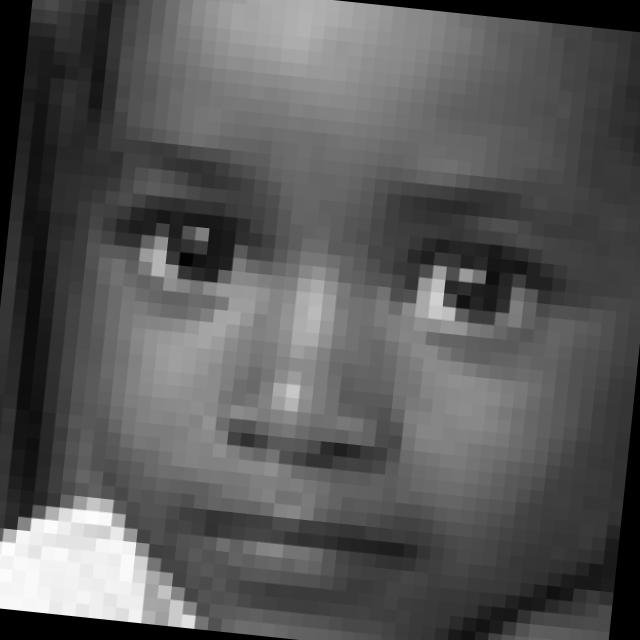neutral: (61, 134, 602, 640)
